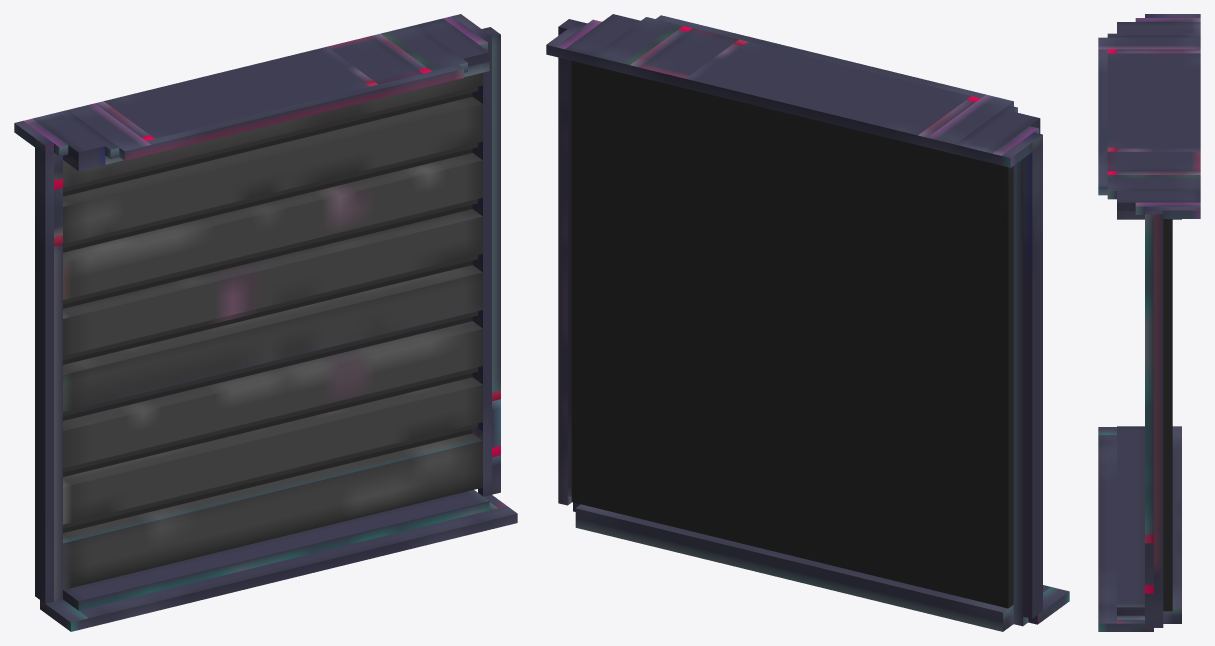
File: Entrance_A_00.fbx
3 views of the same model, side by side, from view 1: azimuth 30°, elevation 25°; view 2: azimuth 150°, elevation 25°; view 3: azimuth 270°, elevation 25° (orthographic). The views are drawn at different scales.
Parts seen in each view (by area): view 1: Entrance_A_00; view 2: Entrance_A_00; view 3: Entrance_A_00.
Boxes of the visible parts, <box> form: Entrance_A_00: <box>14,14,517,631</box>; Entrance_A_00: <box>546,14,1069,631</box>; Entrance_A_00: <box>1098,14,1200,631</box>.
Size of the model in its own units: 255 by 250 by 55.
